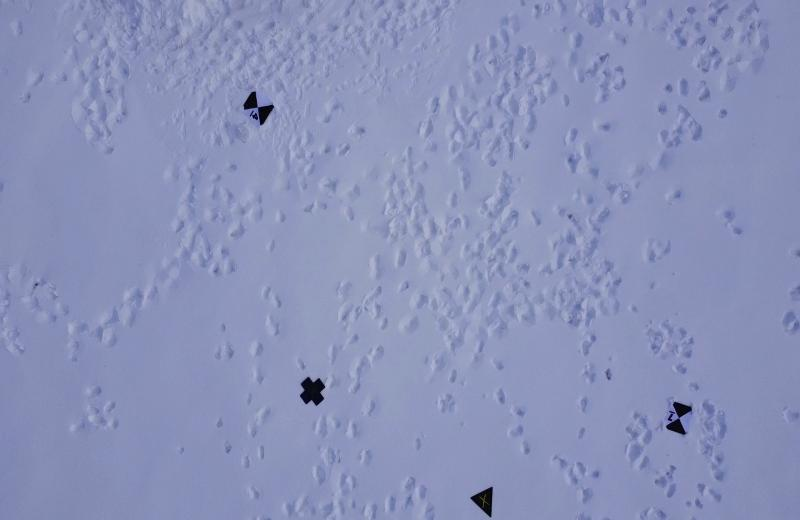Cross: (299, 373, 330, 409)
Triangle: (469, 480, 496, 520)
